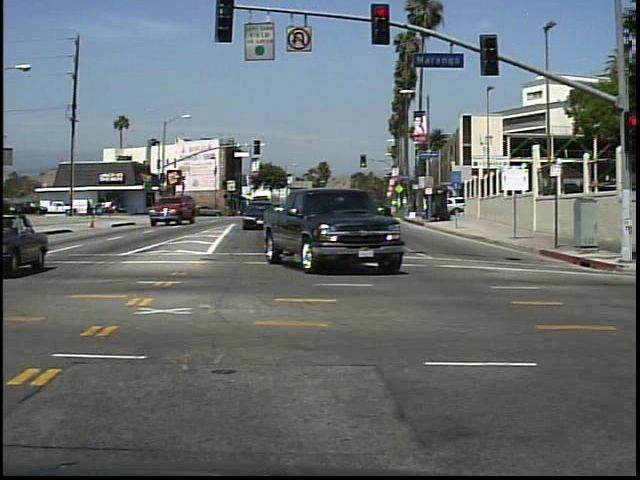person: (84, 198, 96, 223)
